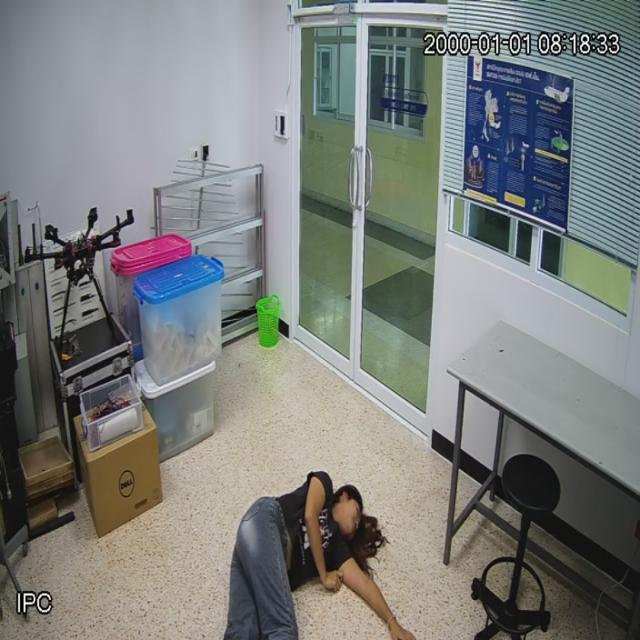fall: (219, 453, 395, 640)
